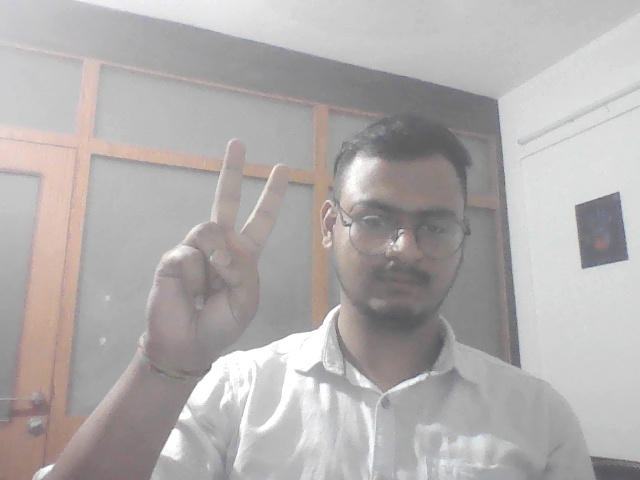Peace: (143, 134, 292, 382)
